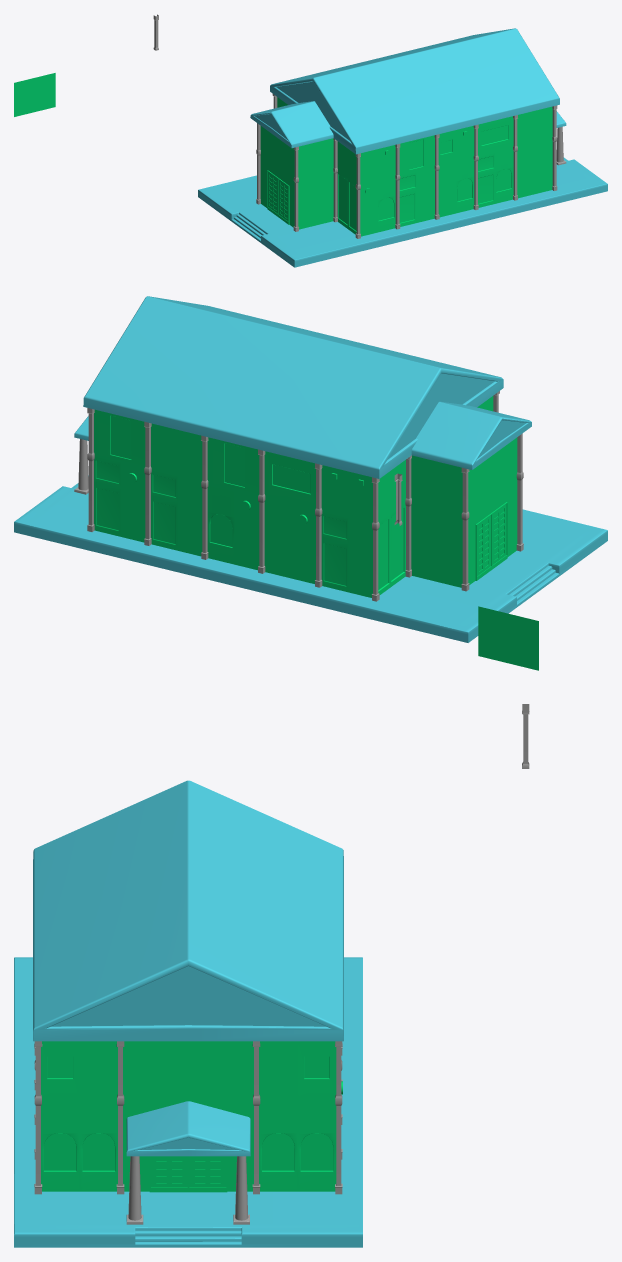
File: LibraryFULL.fbx
The picture shows the model from 3 angles, top to bottom: view 1: azimuth 30°, elevation 25°; view 2: azimuth 150°, elevation 25°; view 3: azimuth 270°, elevation 25°; orthographic projection. The views are drawn at different scales.
Visible parts, largest first — view 1: MainRoof, LibraryStand, RoofExtension, TopFloorBiggerFlatWallExtension3, TopFloorBigWindow, TopFloorTallWindow, TopFloorBigFlatWall1, TopFloorBiggerFlatWallExtension, BigDoorWall1, FlatWallBottomFloor20, ArchWallBottom11, FlatWallBottomFloor26 (+18 smaller); view 2: MainRoof, LibraryStand, RoofExtension, TopFloorBiggerFlatWallExtension3, TopFloorTallWindow4, TopFloorTallWindow3, TopFloorBigFlatWall6, TopFloorBigWindow2, TopFloorBiggerFlatWallExtension2, ArchWallBottom12, FrameWallBottomFloor8, FlatWallBottomFloor21 (+18 smaller); view 3: MainRoof, LibraryStand, TopFloorBigFlatWall, RoofBottomFloor, ArchWallBottom15, ArchWallBottom, ArchWallBottom13, ArchWallBottom14, BigDoorWall, BigDoor, WindowWallTop4, FlatWallTop (+4 smaller).
Part boxes in pixels (x1,y1,x2,y2): MainRoof: (270, 28, 559, 154); LibraryStand: (198, 157, 607, 267); RoofExtension: (250, 101, 333, 148); TopFloorBiggerFlatWallExtension3: (14, 73, 55, 116); TopFloorBigWindow: (478, 116, 513, 156); TopFloorTallWindow: (399, 135, 434, 175); TopFloorBigFlatWall1: (517, 106, 552, 146); TopFloorBiggerFlatWallExtension: (298, 138, 333, 178); BigDoorWall1: (260, 153, 294, 227); FlatWallBottomFloor20: (416, 167, 434, 222); ArchWallBottom11: (377, 177, 395, 232); FlatWallBottomFloor26: (315, 170, 333, 225); MainRoof: (83, 296, 503, 478); LibraryStand: (14, 475, 607, 642); RoofExtension: (411, 401, 531, 469); TopFloorBiggerFlatWallExtension3: (478, 606, 538, 670); TopFloorTallWindow4: (207, 437, 259, 495); TopFloorTallWindow3: (94, 409, 145, 468); TopFloorBigFlatWall6: (151, 423, 202, 481); TopFloorBigWindow2: (264, 451, 315, 509); TopFloorBiggerFlatWallExtension2: (411, 455, 462, 513); ArchWallBottom12: (207, 484, 234, 564); FrameWallBottomFloor8: (321, 512, 348, 592); FlatWallBottomFloor21: (264, 498, 291, 578); MainRoof: (33, 780, 343, 1041); LibraryStand: (14, 957, 362, 1247); TopFloorBigFlatWall: (123, 1041, 253, 1098); RoofBottomFloor: (126, 1101, 250, 1156); ArchWallBottom15: (297, 1099, 336, 1191); ArchWallBottom: (41, 1099, 79, 1191); ArchWallBottom13: (79, 1099, 117, 1191); ArchWallBottom14: (259, 1099, 297, 1191); BigDoorWall: (123, 1099, 253, 1191); BigDoor: (149, 1156, 227, 1192); WindowWallTop4: (297, 1041, 336, 1098); FlatWallTop: (79, 1041, 117, 1098).
Bounding box in the file's own units: 68.4 × 22.52 × 45.21.
